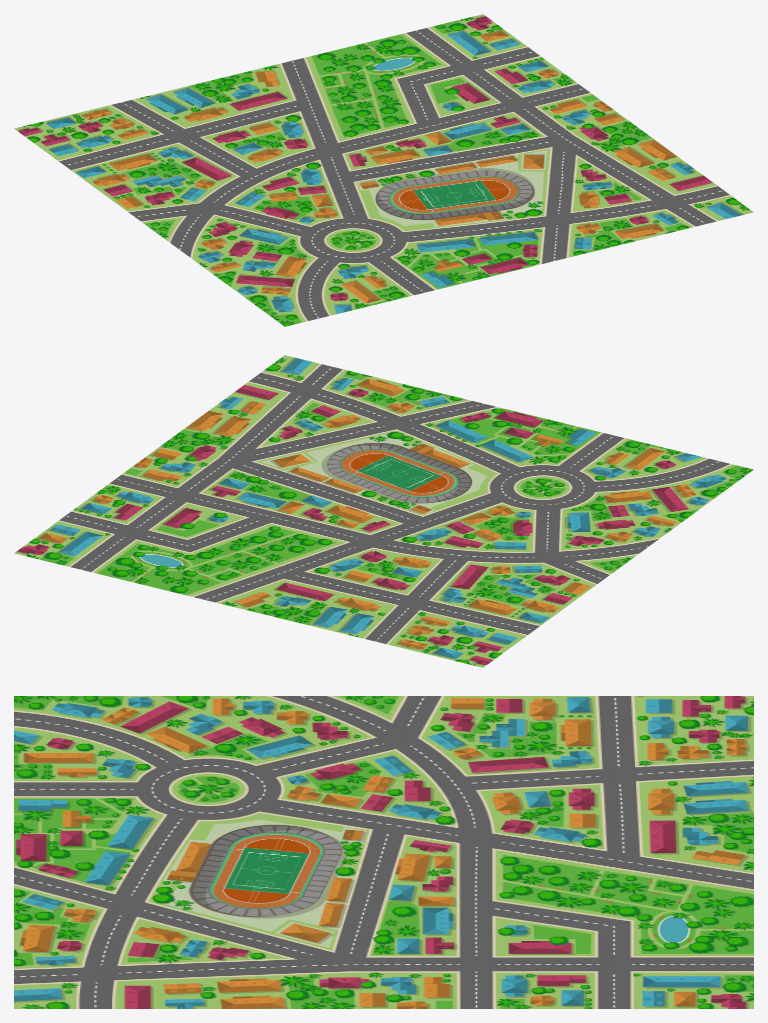
File: TopMap.fbx
The picture shows the model from 3 angles, top to bottom: view 1: azimuth 30°, elevation 25°; view 2: azimuth 150°, elevation 25°; view 3: azimuth 270°, elevation 25°; orthographic projection. The views are drawn at different scales.
Parts seen in each view (by area): view 1: district5, district1, district7, district6, district2, district3, district4, district8; view 2: district5, district1, district7, district6, district2, district3, district4, district8; view 3: district5, district1, district7, district6, district2, district3, district4, district8.
Part boxes in pixels (box(x1,y1,x2,y2)): district5: box(329, 105, 567, 240); district1: box(135, 151, 363, 326); district7: box(517, 88, 753, 260); district6: box(292, 30, 516, 150); district2: box(14, 102, 253, 216); district3: box(122, 61, 328, 175); district4: box(318, 220, 558, 318); district8: box(417, 14, 584, 104); district5: box(183, 422, 536, 541); district1: box(372, 461, 753, 579); district7: box(116, 355, 483, 495); district6: box(81, 495, 370, 599); district2: box(375, 556, 602, 667); district3: box(206, 541, 458, 641); district4: box(399, 404, 719, 483); district8: box(14, 479, 182, 569); district5: box(125, 794, 476, 964); district1: box(14, 696, 476, 838); district7: box(14, 876, 475, 1008); district6: box(476, 838, 753, 964); district2: box(425, 696, 753, 783); district3: box(459, 768, 753, 881); district4: box(14, 718, 201, 905); district8: box(475, 963, 753, 1008).
Size of the model in its own units: 200 by 3.26e-05 by 200.
